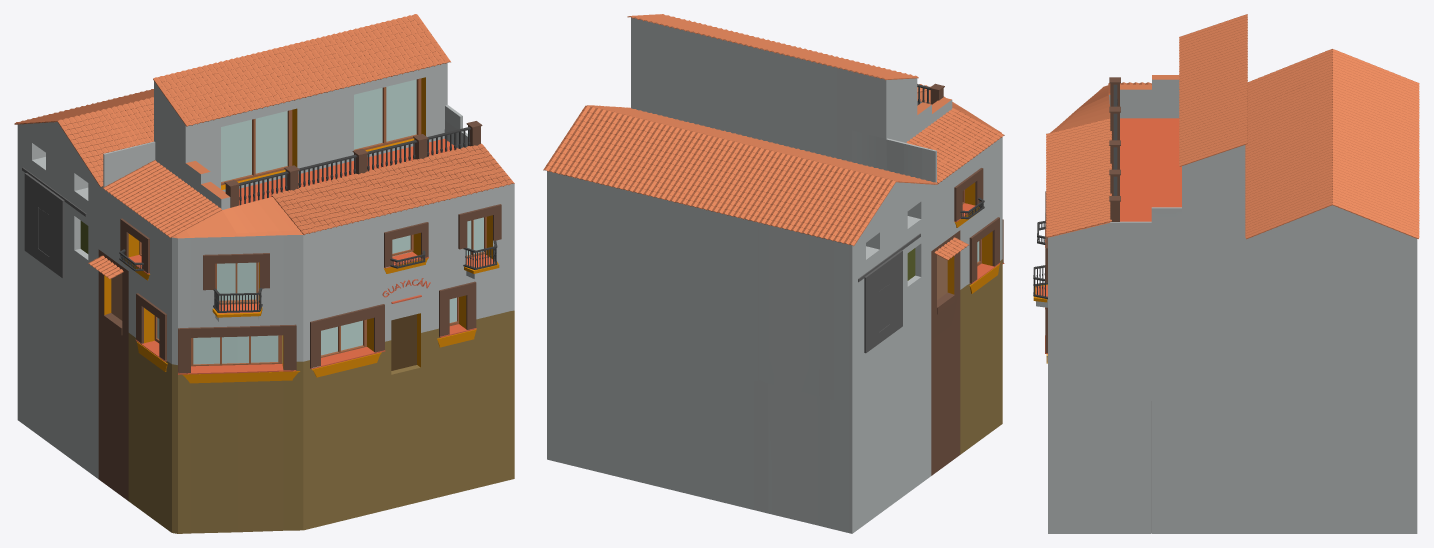
Rendered from 24_Bar_Guayacan_M_Angel_Medina.fbx.
3 views of the same model, side by side, from view 1: azimuth 30°, elevation 25°; view 2: azimuth 150°, elevation 25°; view 3: azimuth 270°, elevation 25° (orthographic). The views are drawn at different scales.
Parts seen in each view (by area): view 1: Edificio.002, Tejas_2.010, Cylinder.012, Cube.072, Pilar.004; view 2: Edificio.002, Tejas_2.010, Cube.072; view 3: Edificio.002, Tejas_2.010, Pilar.004, Cylinder.012.
Boxes of the visible parts, x1=… form: Edificio.002: x1=17, y1=63, x2=514, y2=533; Tejas_2.010: x1=14, y1=14, x2=514, y2=237; Cylinder.012: x1=119, y1=127, x2=497, y2=312; Cube.072: x1=24, y1=173, x2=64, y2=278; Pilar.004: x1=224, y1=121, x2=482, y2=207; Edificio.002: x1=547, y1=17, x2=1004, y2=533; Tejas_2.010: x1=543, y1=14, x2=1004, y2=245; Cube.072: x1=864, y1=250, x2=902, y2=353; Edificio.002: x1=1033, y1=75, x2=1417, y2=533; Tejas_2.010: x1=1046, y1=14, x2=1419, y2=239; Pilar.004: x1=1109, y1=77, x2=1120, y2=221; Cylinder.012: x1=1033, y1=84, x2=1117, y2=299.
Bounding box in the file's own units: 1650 × 1873 × 1669.
